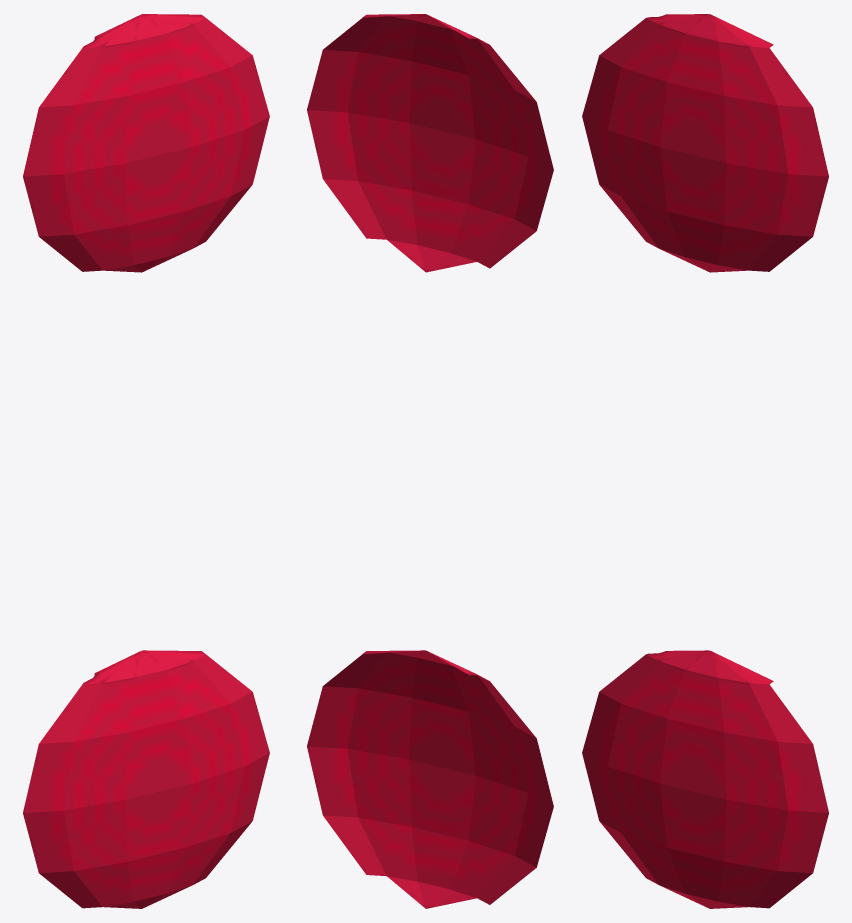
File: dc_metro_signal_light_3r_light_layer.obj
The picture shows the model from 3 angles, left to right: view 1: azimuth 30°, elevation 25°; view 2: azimuth 150°, elevation 25°; view 3: azimuth 330°, elevation 25°; orthographic projection.
Visible parts, largest first — view 1: light; view 2: light; view 3: light.
Boxes of the visible parts, x1,y1,x2,y2 form: light: (23, 14, 269, 908); light: (307, 14, 553, 908); light: (582, 14, 828, 908).
Bounding box in the file's own units: 0.2031 × 0.7031 × 0.0297.
1 material, 1 textured.
